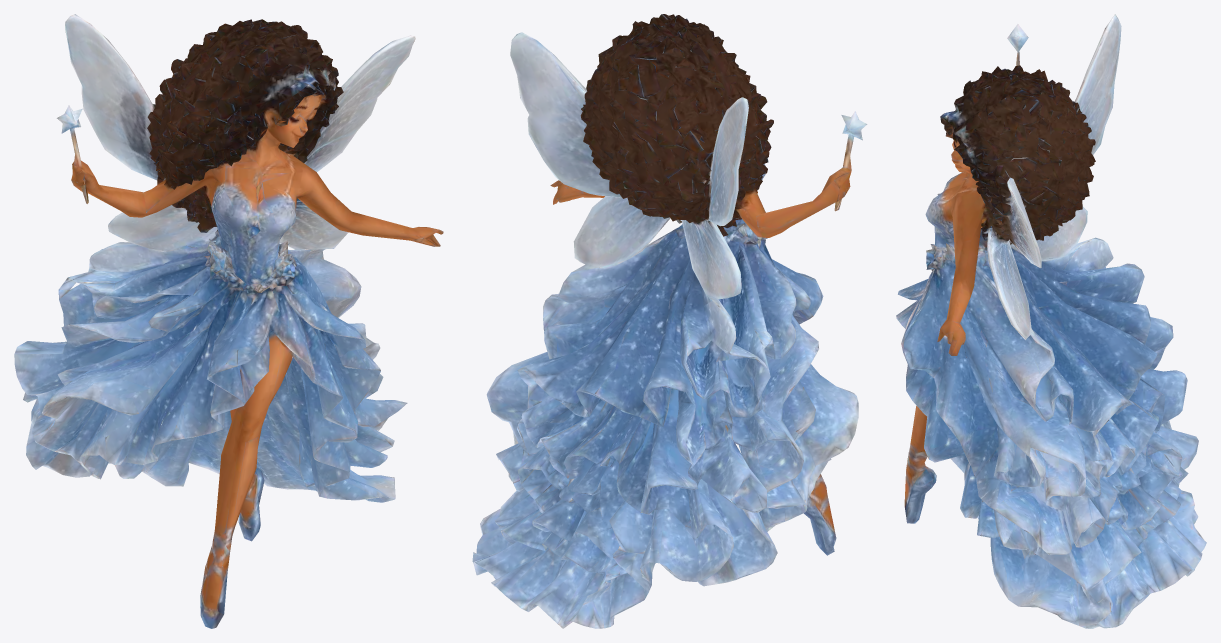
Rendered from fada.glb.
3 views of the same model, side by side, from view 1: azimuth 30°, elevation 25°; view 2: azimuth 150°, elevation 25°; view 3: azimuth 270°, elevation 25° (orthographic). The views are drawn at different scales.
Visible parts, largest first — view 1: ar-normalized; view 2: ar-normalized; view 3: ar-normalized.
Part boxes in pixels (x1,y1,x2,y2): ar-normalized: (14,14,443,628); ar-normalized: (472,14,867,628); ar-normalized: (896,14,1206,628).
Bounding box in the file's own units: 0.6984 × 1 × 0.5664.
Materials: 1 (1 with a texture image).
